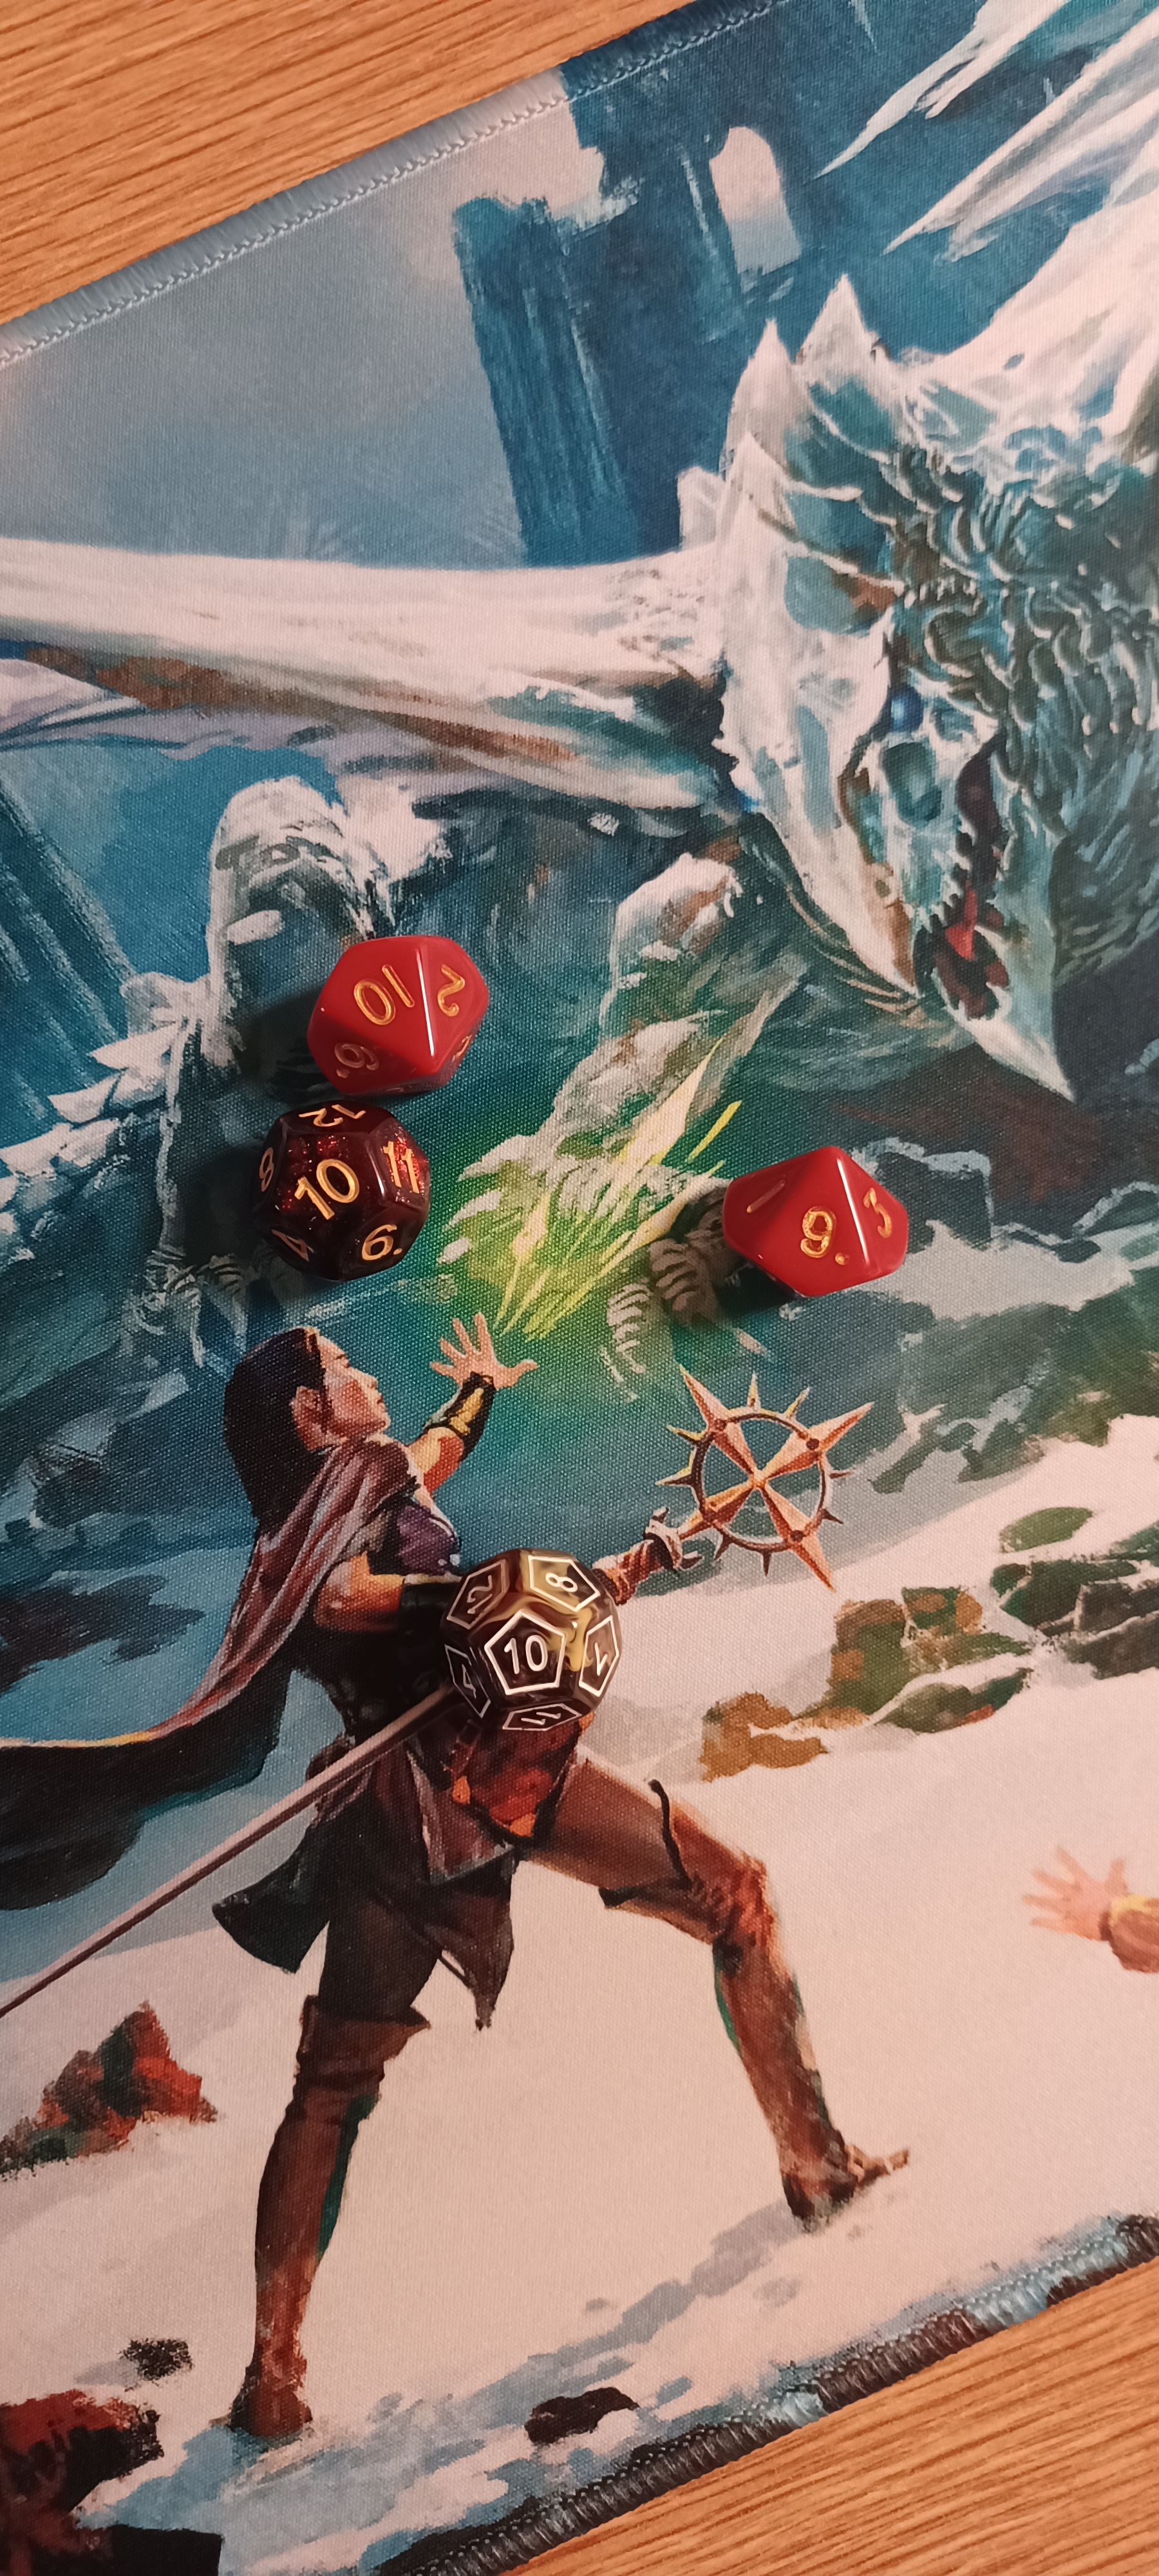nine: (678, 1094, 980, 1354)
ten: (396, 1518, 685, 1782), (220, 1088, 478, 1308), (281, 904, 527, 1119)
